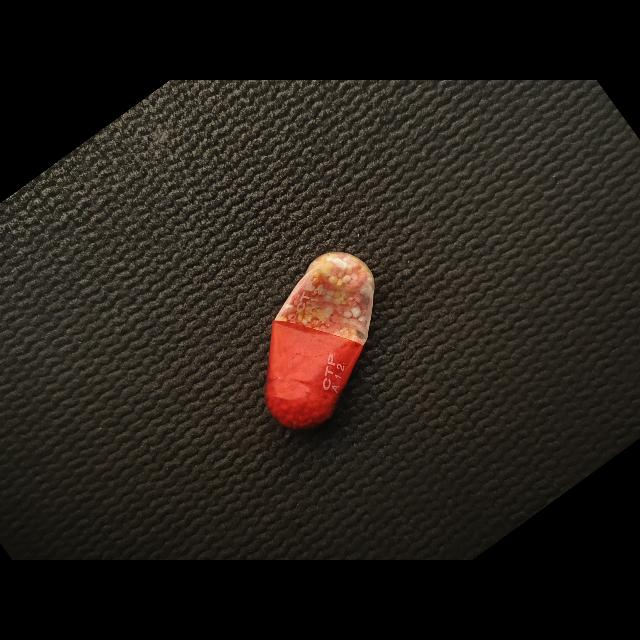Defective Capsule: (265, 252, 375, 430)
